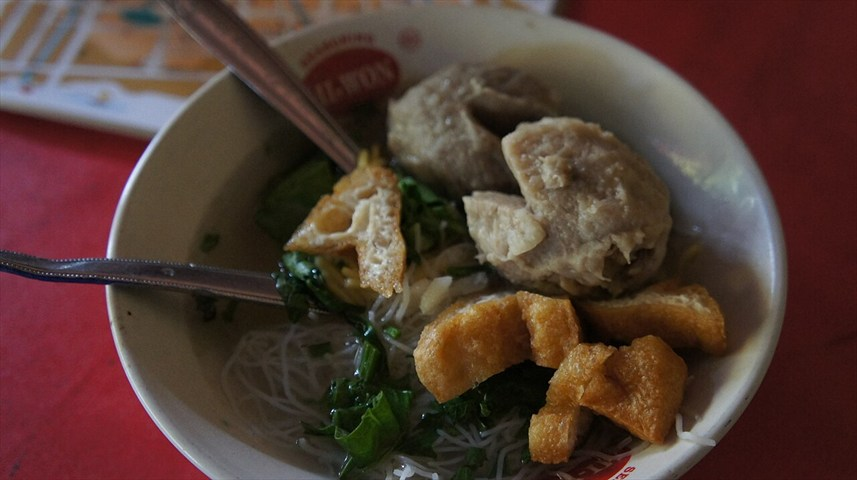Bakso: (66, 71, 780, 461)
